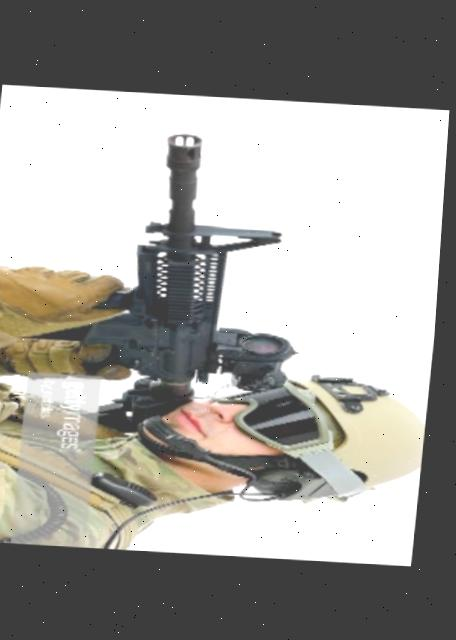rifle: (38, 114, 327, 419)
